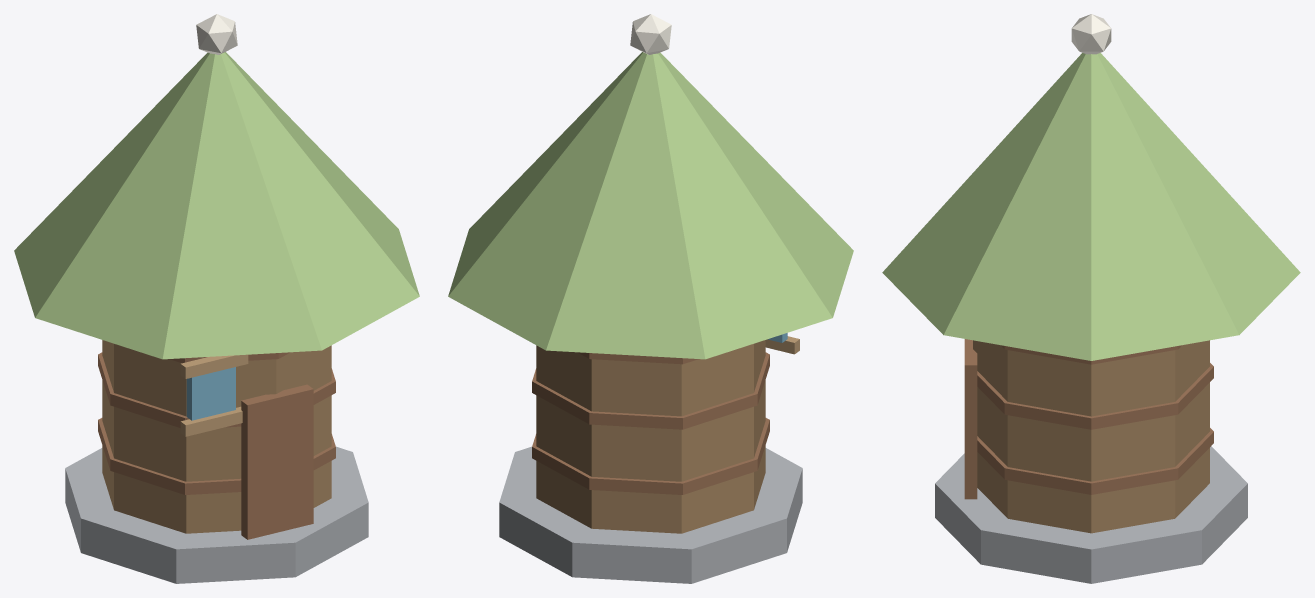
File: hut.glb
3 renders of one model, left to right at view 1: azimuth 30°, elevation 25°; view 2: azimuth 150°, elevation 25°; view 3: azimuth 270°, elevation 25°, orthographic.
Parts seen in each view (by area): view 1: thatch_roof, round_wall, stone_base, door.002, wall_band, glass.003, wall_band.001, roof_knob, frame.007, frame.006; view 2: thatch_roof, round_wall, stone_base, wall_band.001, wall_band, roof_knob, wall_band.002; view 3: thatch_roof, round_wall, stone_base, wall_band, wall_band.001, door.002, roof_knob, wall_band.002.
Boxes of the visible parts, x1,y1,x2,y2 form: thatch_roof: [14, 52, 419, 359]; round_wall: [102, 340, 331, 533]; stone_base: [65, 446, 368, 583]; door.002: [241, 384, 313, 539]; wall_band: [98, 418, 335, 494]; glass.003: [186, 367, 235, 420]; wall_band.001: [98, 352, 335, 427]; roof_knob: [196, 14, 237, 54]; frame.007: [180, 354, 248, 378]; frame.006: [180, 406, 242, 436]; thatch_roof: [448, 52, 853, 359]; round_wall: [536, 340, 765, 533]; stone_base: [499, 446, 802, 583]; wall_band.001: [532, 352, 769, 429]; wall_band: [532, 418, 769, 494]; roof_knob: [630, 14, 671, 54]; wall_band.002: [577, 352, 698, 364]; thatch_roof: [882, 53, 1300, 360]; round_wall: [973, 340, 1209, 533]; stone_base: [935, 446, 1247, 583]; wall_band: [977, 428, 1213, 494]; wall_band.001: [977, 363, 1213, 429]; door.002: [964, 339, 977, 499]; roof_knob: [1071, 14, 1111, 54]; wall_band.002: [1001, 345, 1181, 364].
Size of the model in its own units: 1.98 by 2.63 by 1.98.
